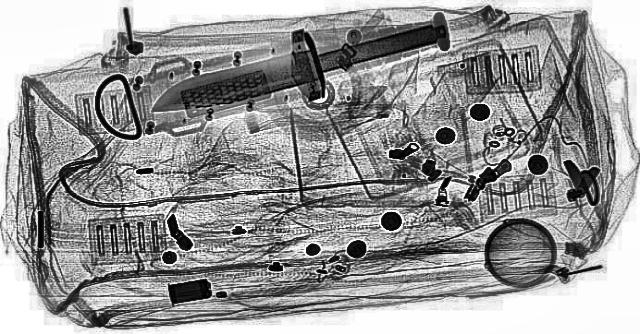Knife: (110, 1, 478, 142)
